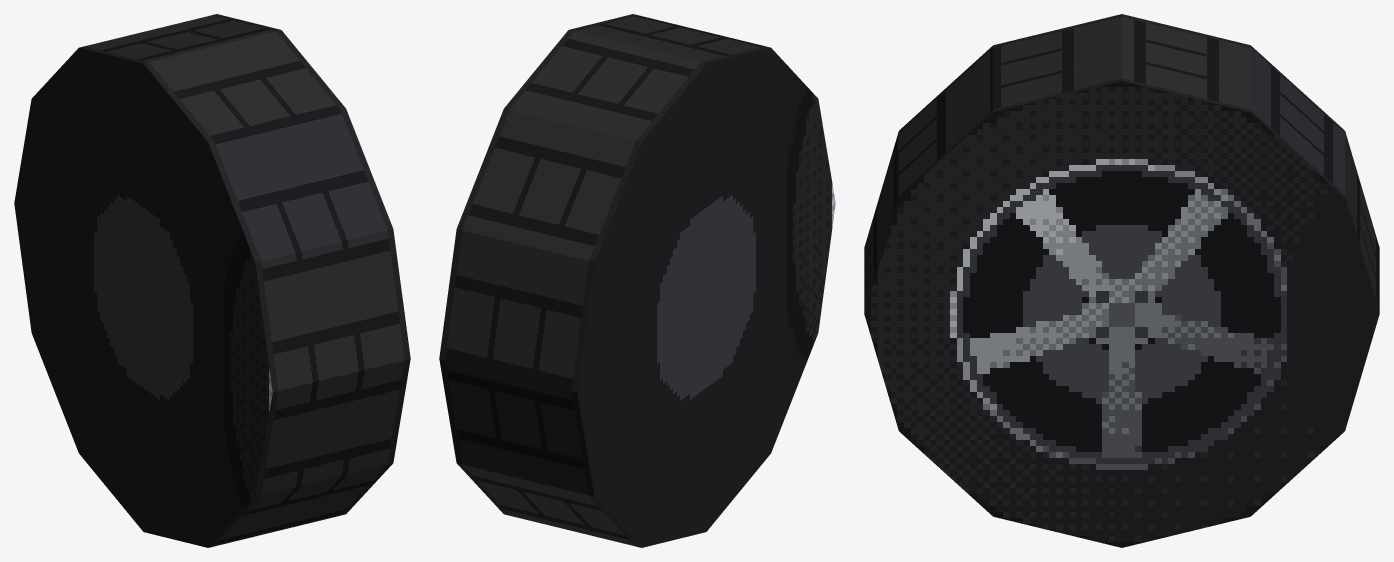
The model's file is wheel_stock.glb.
3 renders of one model, left to right at view 1: azimuth 30°, elevation 25°; view 2: azimuth 150°, elevation 25°; view 3: azimuth 270°, elevation 25°, orthographic.
Visible parts, largest first — view 1: wheel_stock; view 2: wheel_stock; view 3: wheel_stock.
Boxes of the visible parts, x1,y1,x2,y2 form: wheel_stock: (14,14,410,547); wheel_stock: (439,14,835,547); wheel_stock: (864,14,1379,547).
Bounding box in the file's own units: 0.225 × 0.7301 × 0.7301.
Materials: 1 (1 with a texture image).
